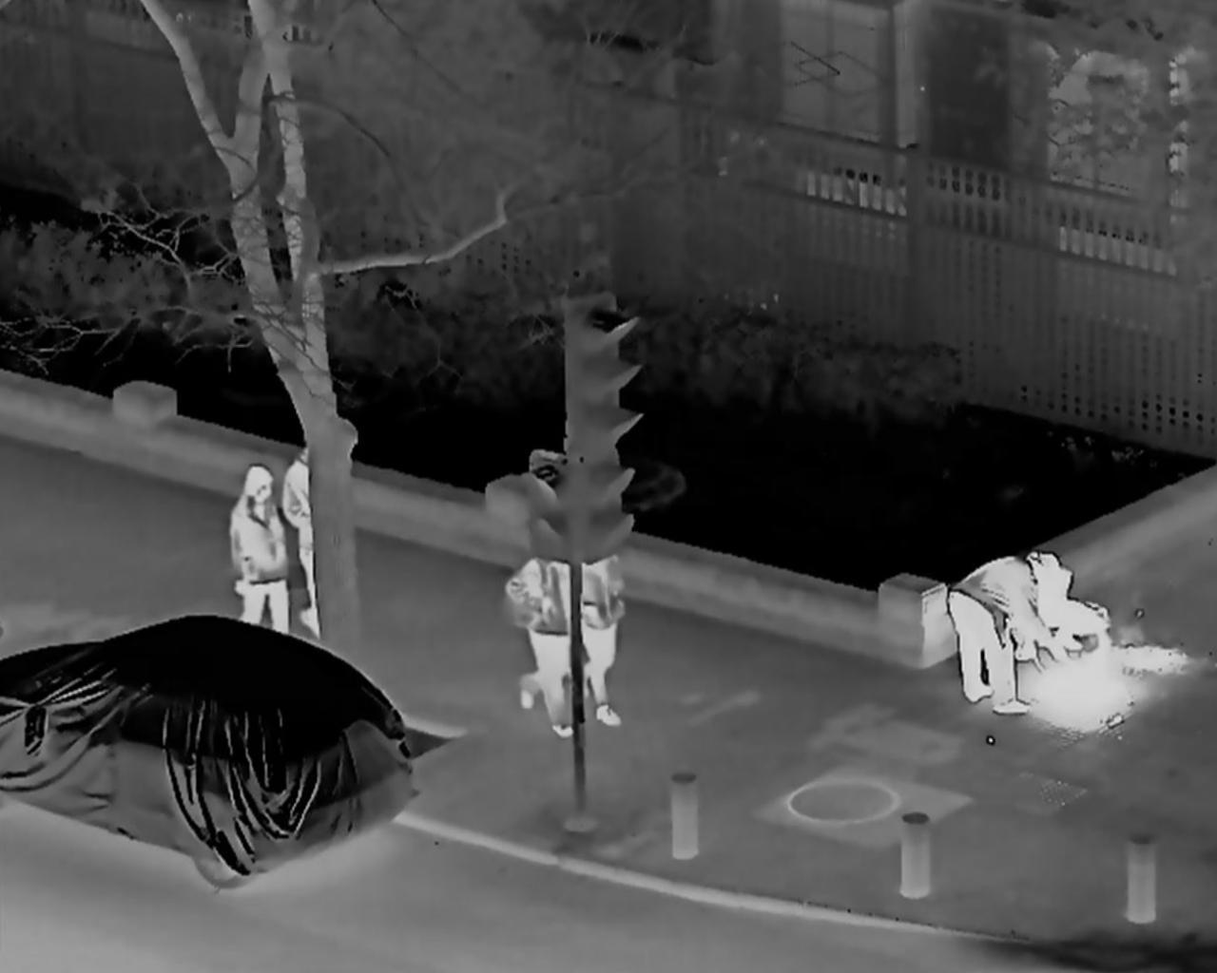person: (942, 548, 1051, 720), (491, 548, 578, 738), (558, 519, 633, 727), (277, 442, 345, 638), (226, 464, 291, 657), (1013, 551, 1114, 665)
